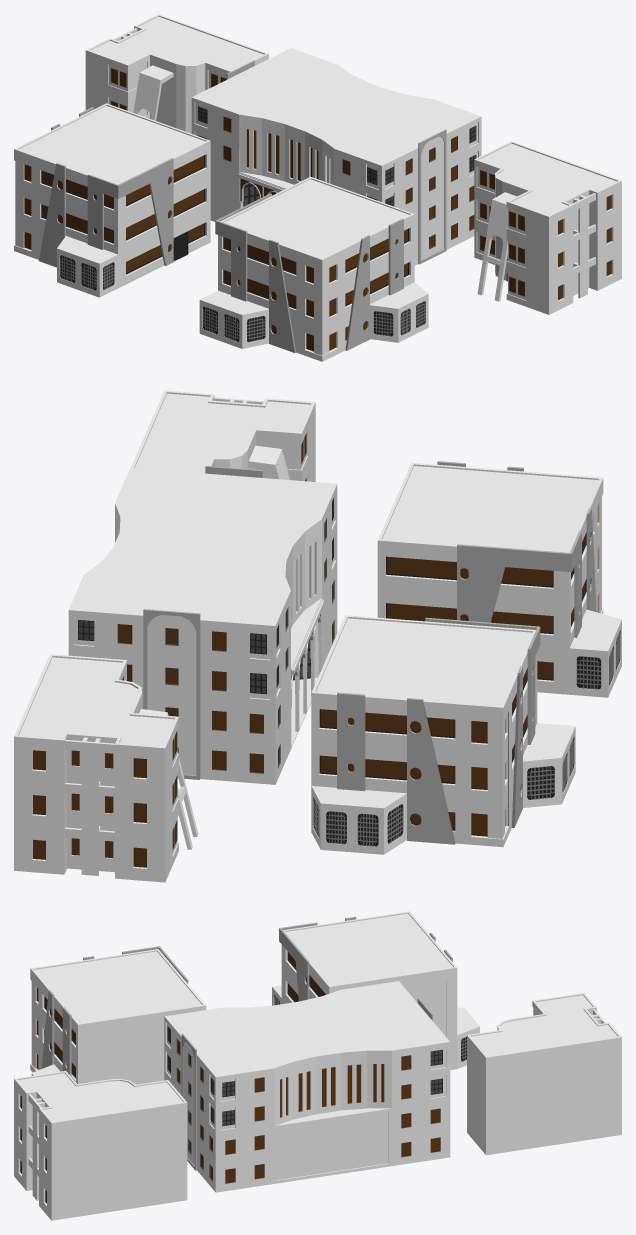
Rendered from facMath.gltf.
The picture shows the model from 3 angles, top to bottom: view 1: azimuth 30°, elevation 25°; view 2: azimuth 150°, elevation 25°; view 3: azimuth 270°, elevation 25°; orthographic projection. The views are drawn at different scales.
Visible parts, largest first — view 1: fac de math; view 2: fac de math; view 3: fac de math.
Part boxes in pixels (x1,y1,x2,y2): fac de math: [14, 14, 621, 361]; fac de math: [14, 390, 621, 882]; fac de math: [14, 911, 621, 1220].
Bounding box in the file's own units: 121 × 32.71 × 150.
Materials: 1 (1 with a texture image).
